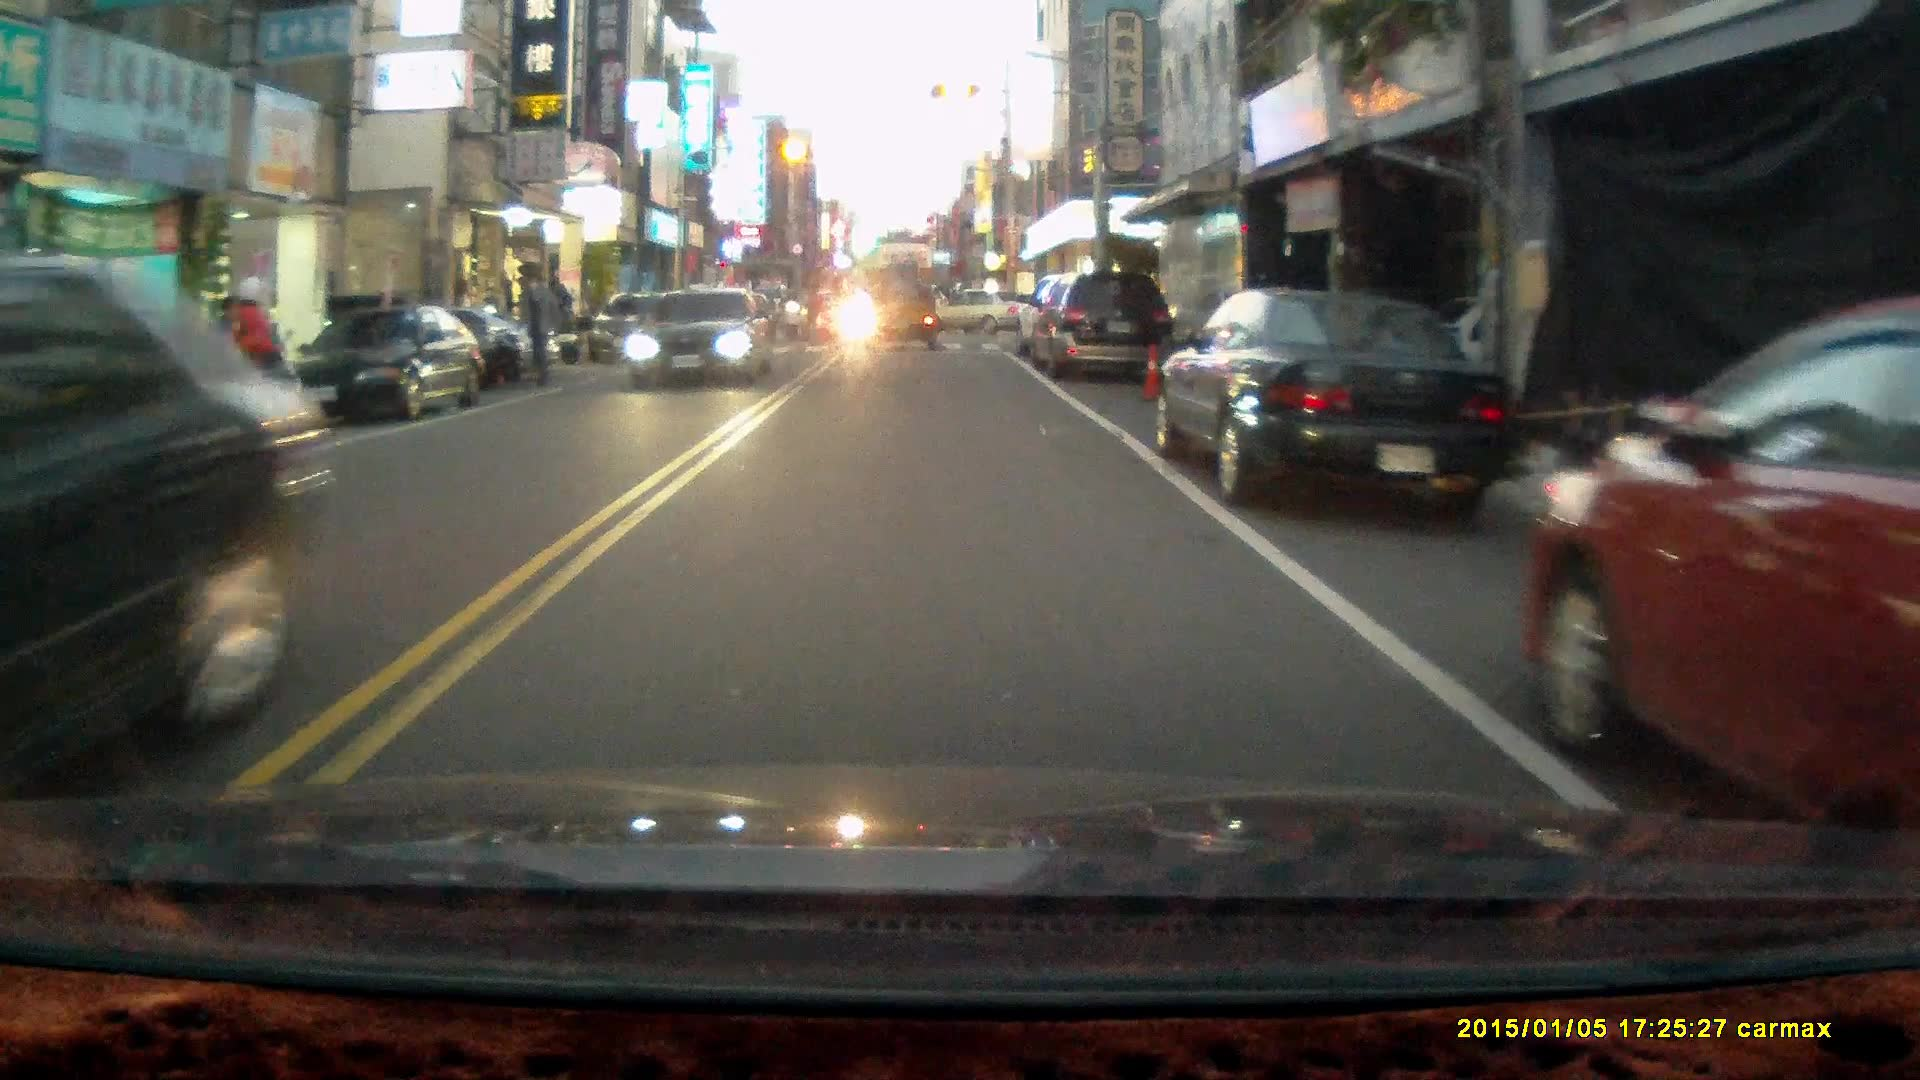pedestrian: (521, 267, 562, 388)
rider: (192, 275, 308, 443)
vehicle: (1527, 296, 1920, 849), (2, 254, 327, 806), (1151, 287, 1523, 525), (275, 296, 479, 418), (1024, 272, 1178, 384), (628, 284, 776, 389), (866, 267, 941, 354), (919, 286, 1048, 336)
